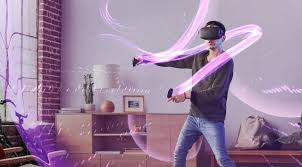oculus: (198, 26, 224, 42)
